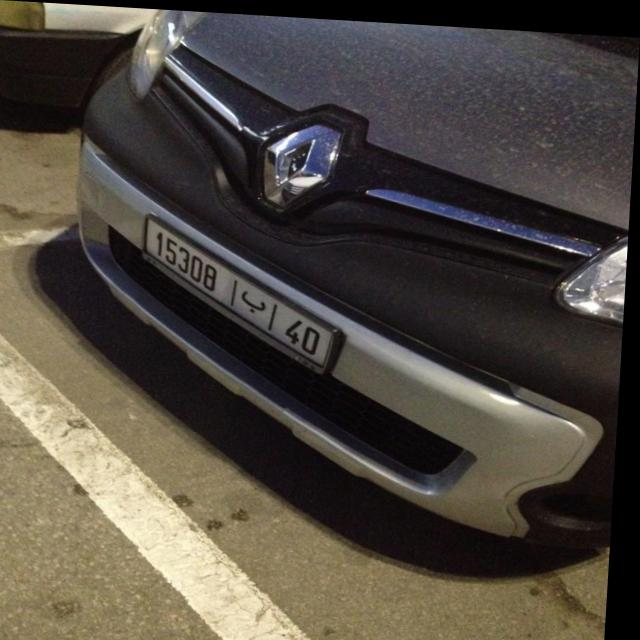License-Plate: (147, 216, 339, 367)
